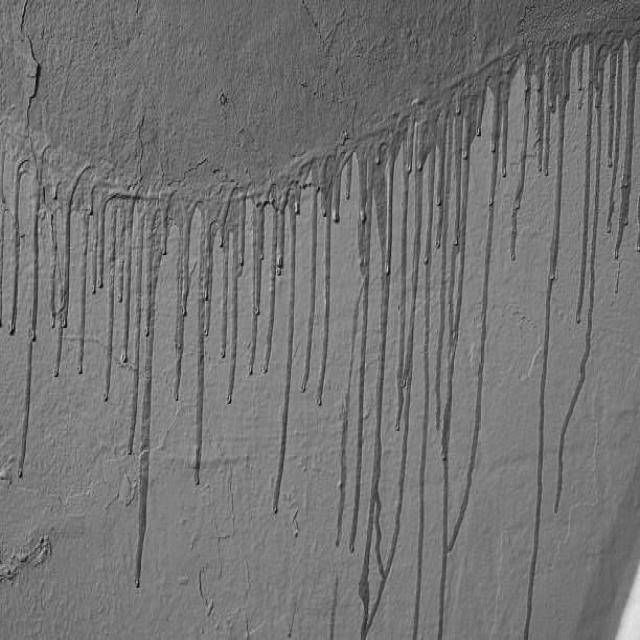paint drips: (0, 128, 284, 590), (285, 71, 499, 640), (498, 29, 640, 640)
